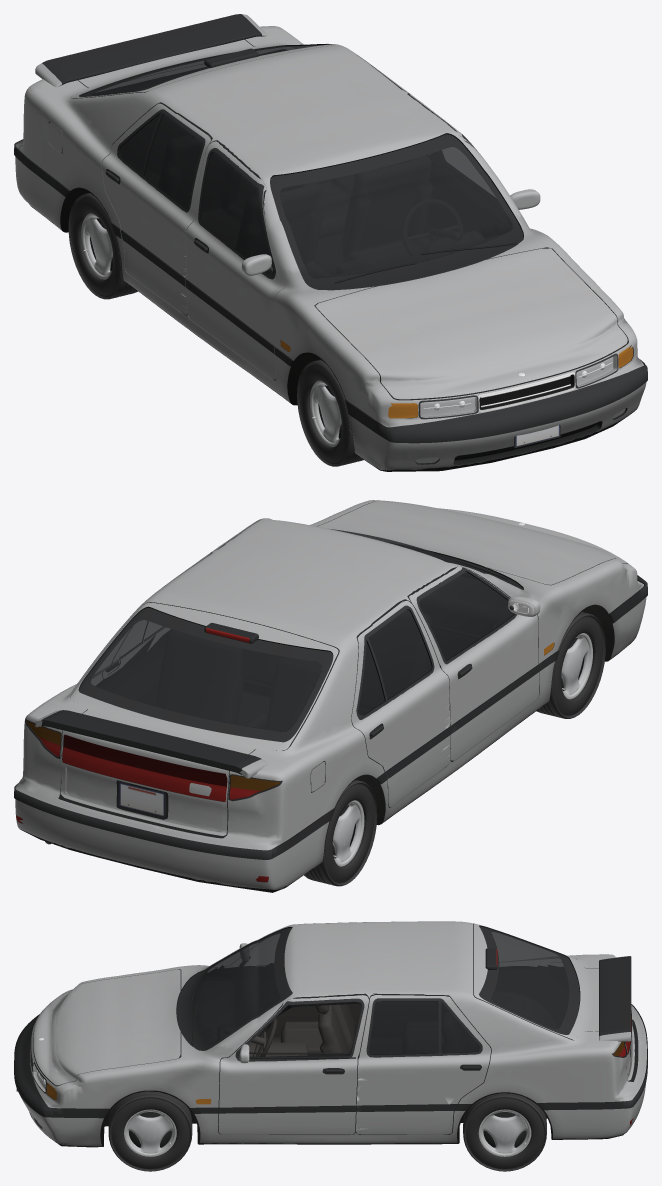
Rendered from car_hero.glb.
The picture shows the model from 3 angles, top to bottom: view 1: azimuth 30°, elevation 25°; view 2: azimuth 150°, elevation 25°; view 3: azimuth 270°, elevation 25°; orthographic projection. The views are drawn at different scales.
Parts seen in each view (by area): view 1: body, wheel_FR, wheel_RR; view 2: body, wheel_FR, wheel_RR; view 3: body, wheel_FL, wheel_RL.
Boxes of the visible parts, left/top/right/bottom form: body: left=14, top=14, right=647, bottom=471; wheel_FR: left=297, top=359, right=363, bottom=466; wheel_RR: left=68, top=193, right=137, bottom=299; body: left=14, top=500, right=647, bottom=892; wheel_FR: left=536, top=612, right=605, bottom=718; wheel_RR: left=304, top=780, right=377, bottom=886; body: left=14, top=921, right=647, bottom=1147; wheel_FL: left=108, top=1091, right=192, bottom=1171; wheel_RL: left=463, top=1093, right=546, bottom=1171.
Bounding box in the file's own units: 1.99 × 1.42 × 4.78.
Materials: 12 (1 with a texture image).
